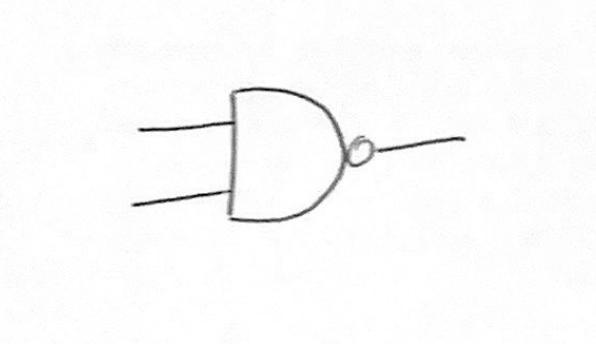NAND: (214, 59, 407, 242)
